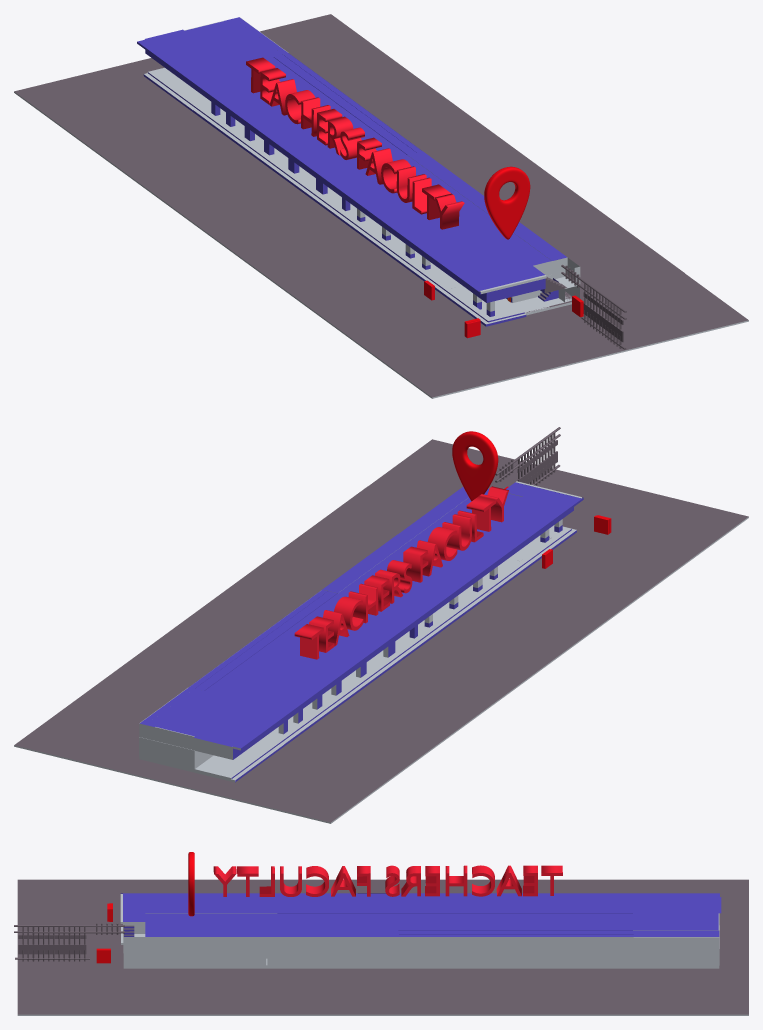
The model's file is teachersfaculty.glb.
The picture shows the model from 3 angles, top to bottom: view 1: azimuth 30°, elevation 25°; view 2: azimuth 150°, elevation 25°; view 3: azimuth 270°, elevation 25°; orthographic projection. The views are drawn at different scales.
Parts seen in each view (by area): view 1: Cylinder.1059, Text, dot, Cylinder.001; view 2: Cylinder.1059, Text, dot, Cylinder.001; view 3: Cylinder.1059, Text, Cylinder.001, dot.
Boxes of the visible parts, <box> form: Cylinder.1059: <box>14,14,748,398</box>; Text: <box>246,57,464,229</box>; dot: <box>484,166,530,239</box>; Cylinder.001: <box>561,264,626,348</box>; Cylinder.1059: <box>14,439,748,823</box>; Text: <box>294,486,508,659</box>; dot: <box>452,431,498,501</box>; Cylinder.001: <box>495,427,560,485</box>; Cylinder.1059: <box>17,879,748,1015</box>; Text: <box>213,865,562,896</box>; Cylinder.001: <box>14,923,124,961</box>; dot: <box>188,852,194,916</box>.
Size of what is drawn, in the model's own units: 187 by 65.01 by 429.
